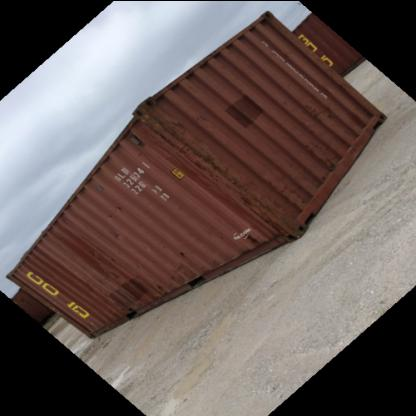Damage: (146, 105, 230, 201), (233, 182, 298, 241), (151, 245, 197, 292), (290, 92, 338, 129), (84, 249, 118, 294), (306, 142, 338, 181), (99, 202, 127, 244)
